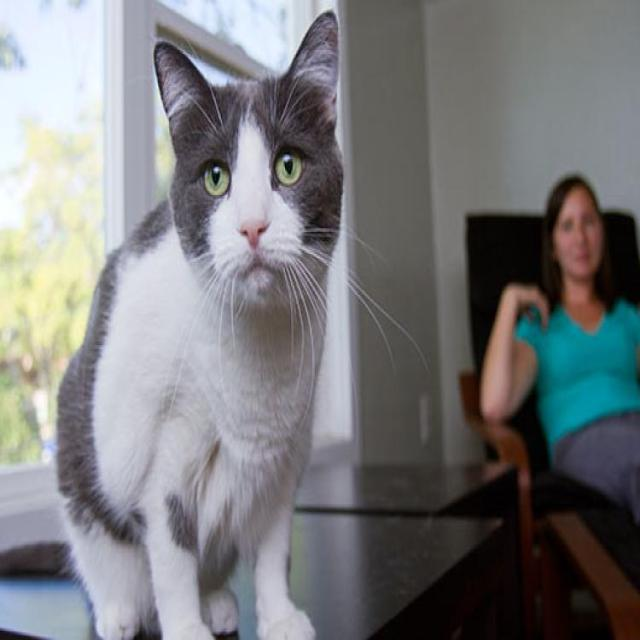Cat: (149, 4, 356, 317)
